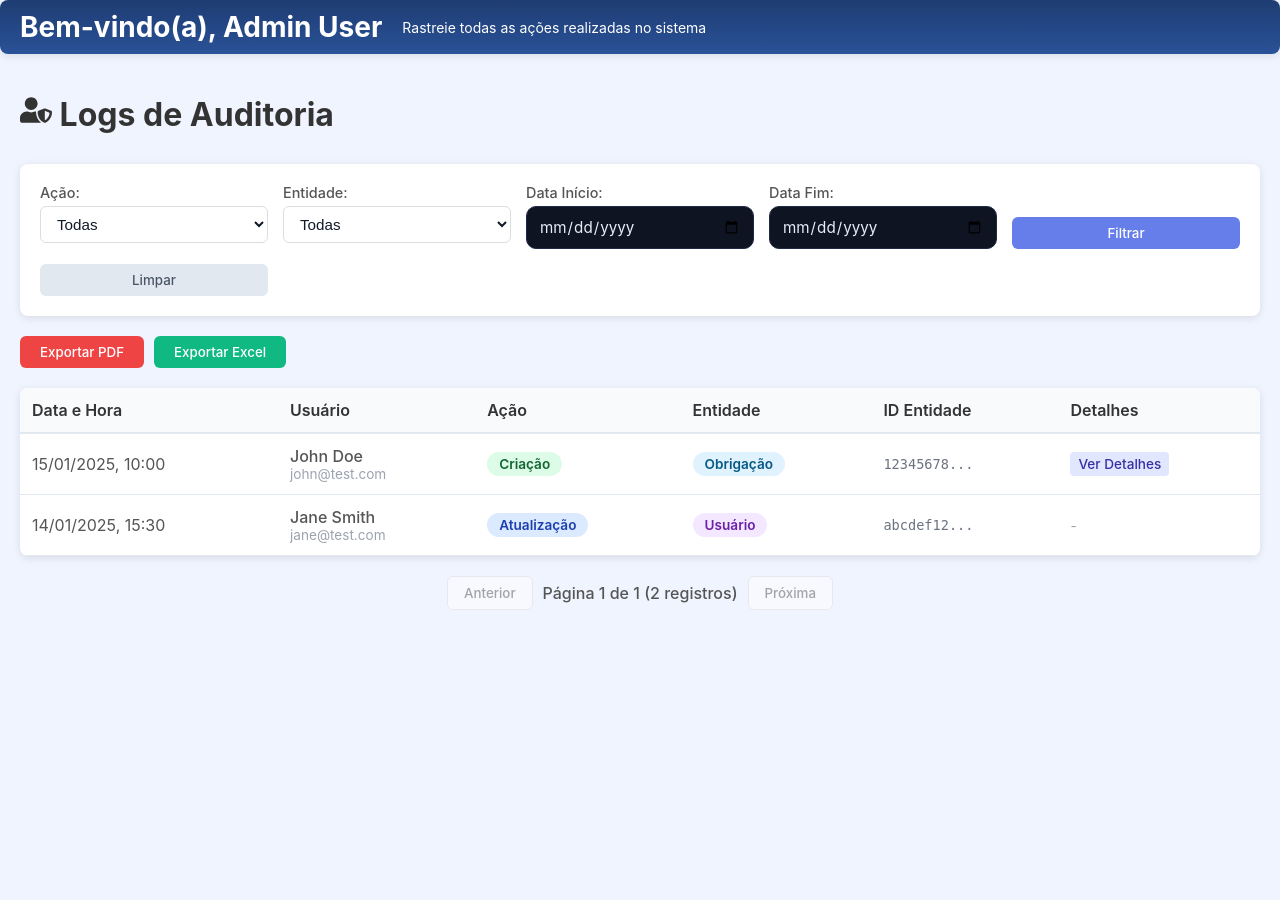
Test case: AuditLog › Modal de Metadata › deve fechar modal ao clicar em Fechar
The image size is (1280, 900).
Click the button "Ver Detalhes" at [1120, 464], box [1070,452,1169,476]
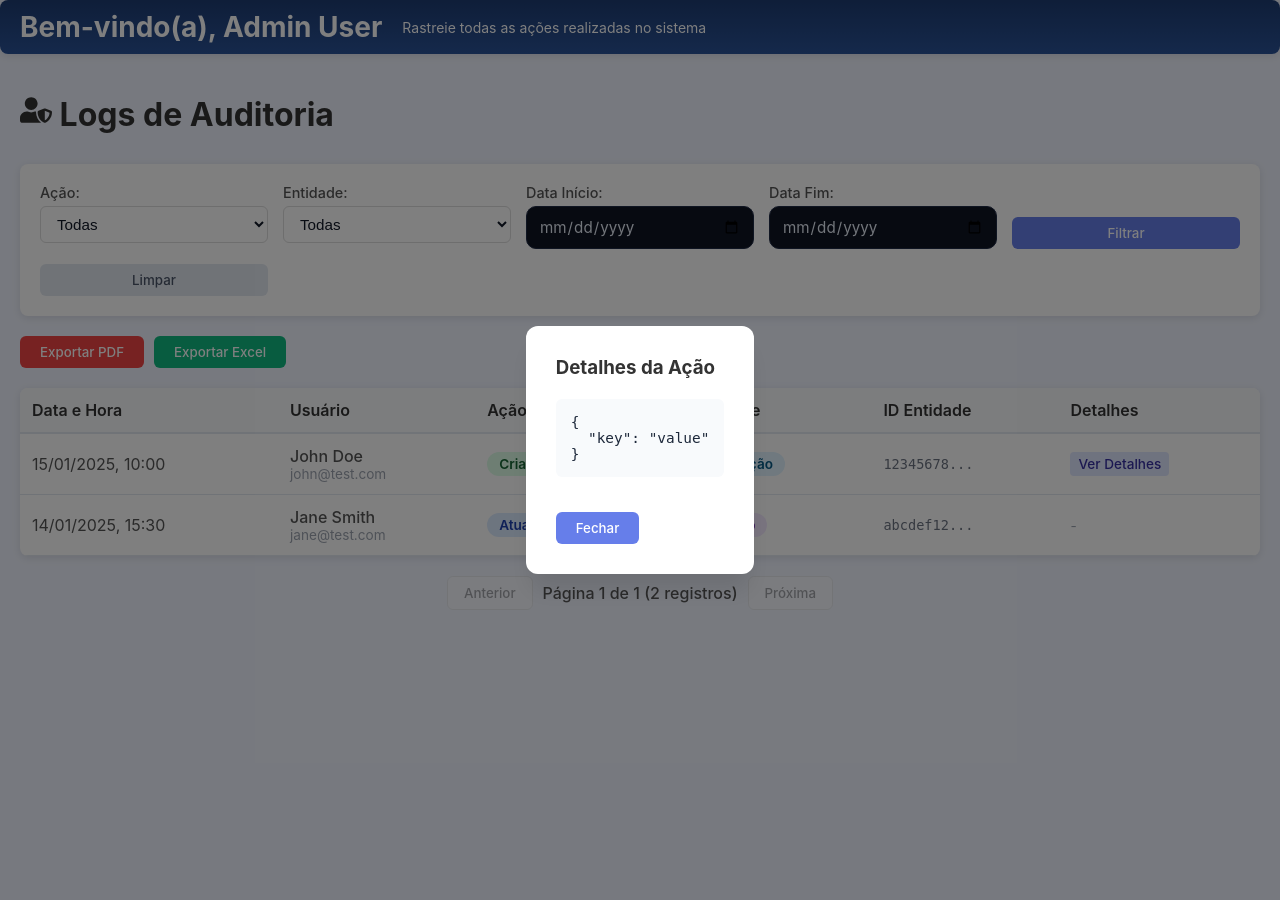
Click the button "Fechar" at [598, 528], box [556,512,639,544]
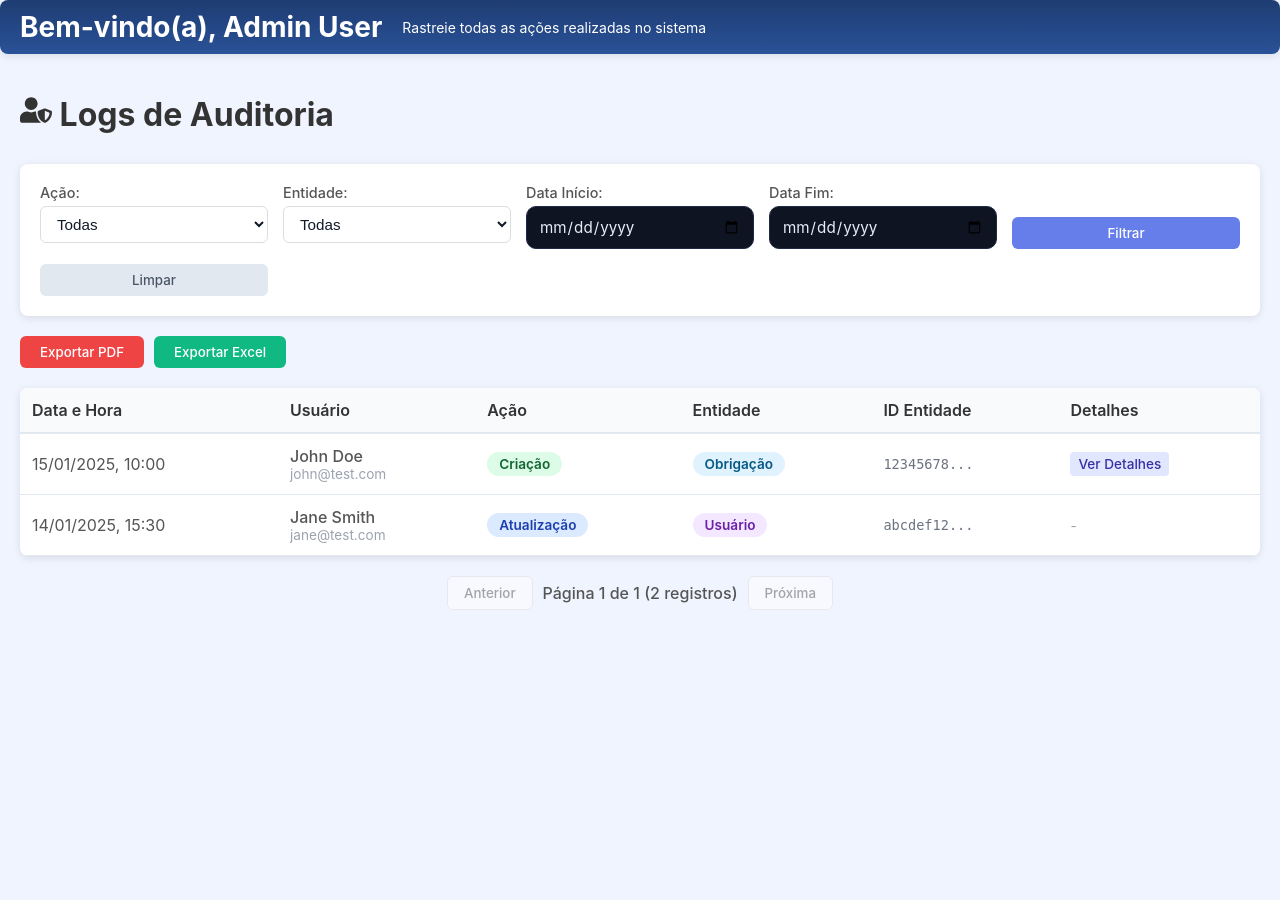
Expected: the heading "Detalhes da Ação" is gone
